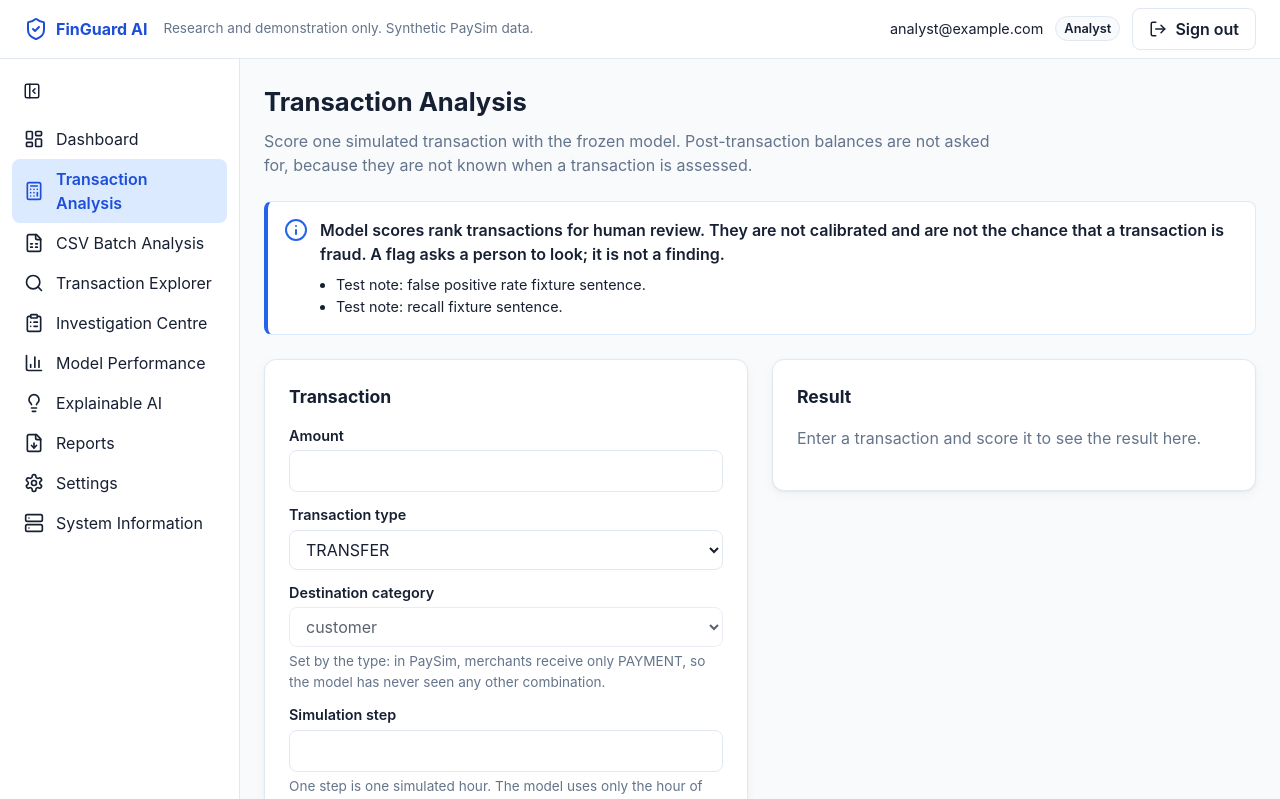
Test: transaction analysis › shows the API's message for a repeated identifier
Type "100" into the field labelled "Amount".
click(506, 471); type("100")  # box left=289, top=450, right=723, bottom=492
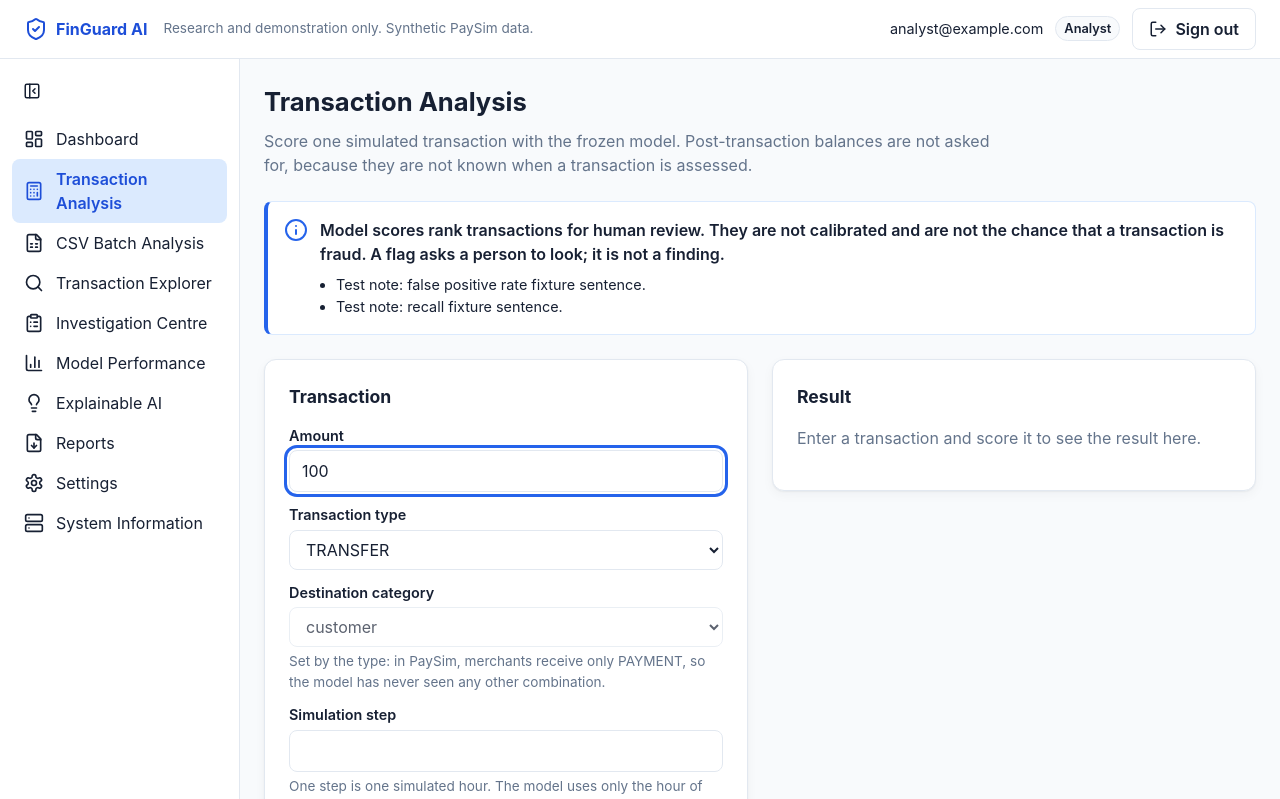
Select "TRANSFER" in the dropdown labelled "Transaction type" at (506, 550), box left=289, top=530, right=723, bottom=570
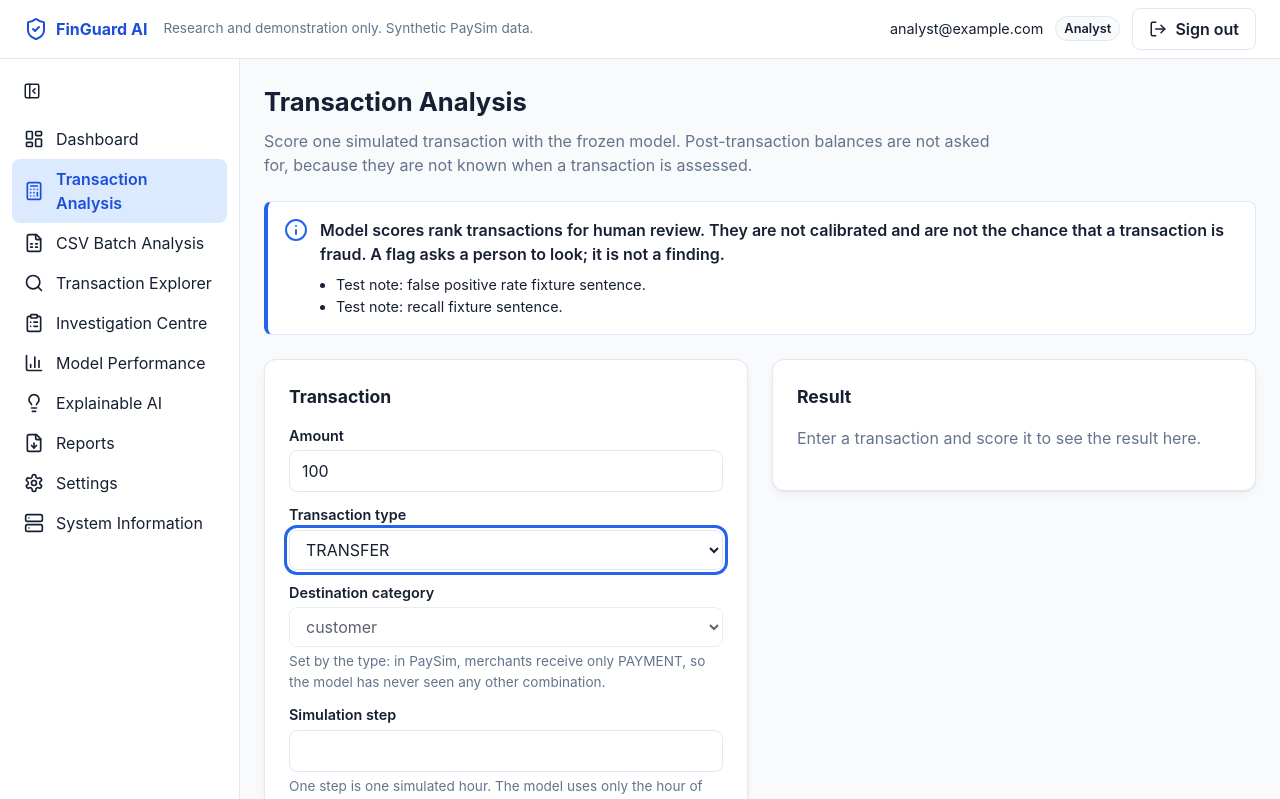
Type "5" into the field labelled "Simulation step".
click(506, 751); type("5")  # box left=289, top=730, right=723, bottom=772
(page scrolled)
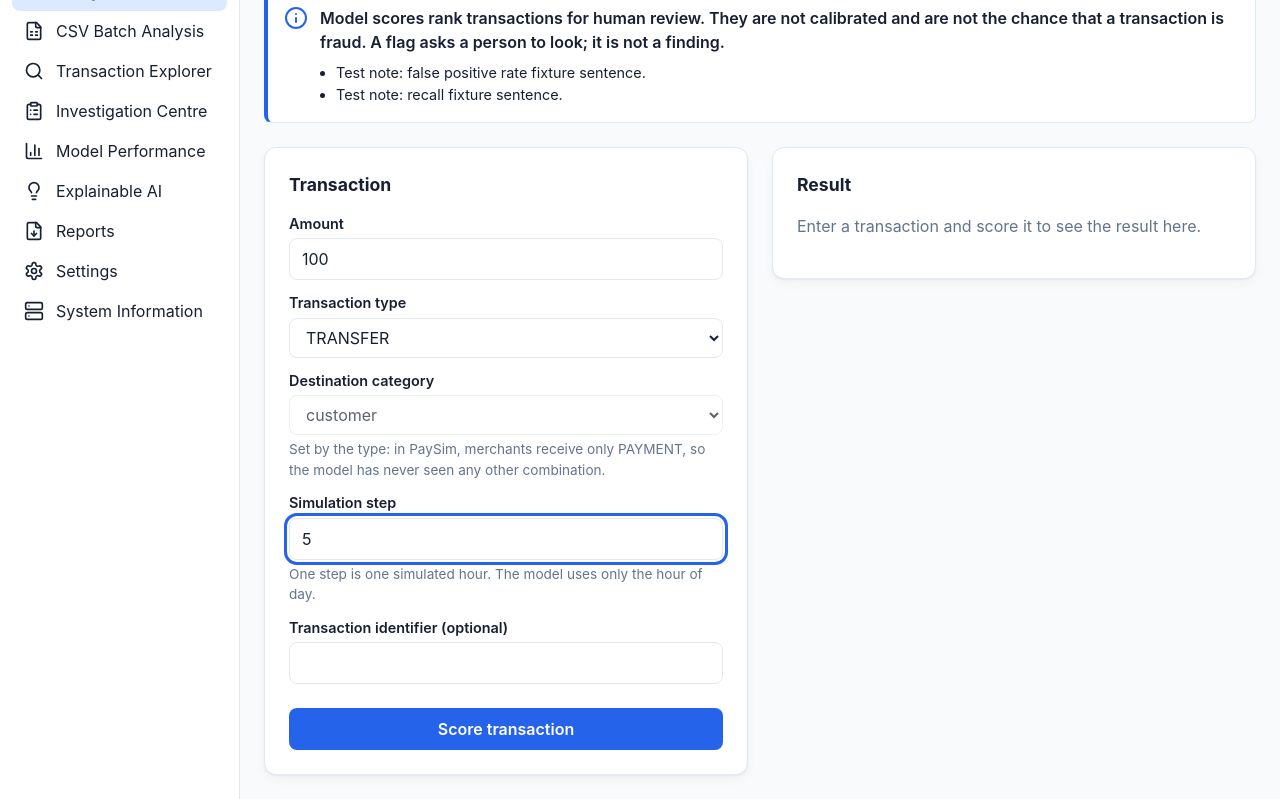
Click the button "Score transaction".
click(506, 729)  # box left=289, top=708, right=723, bottom=750
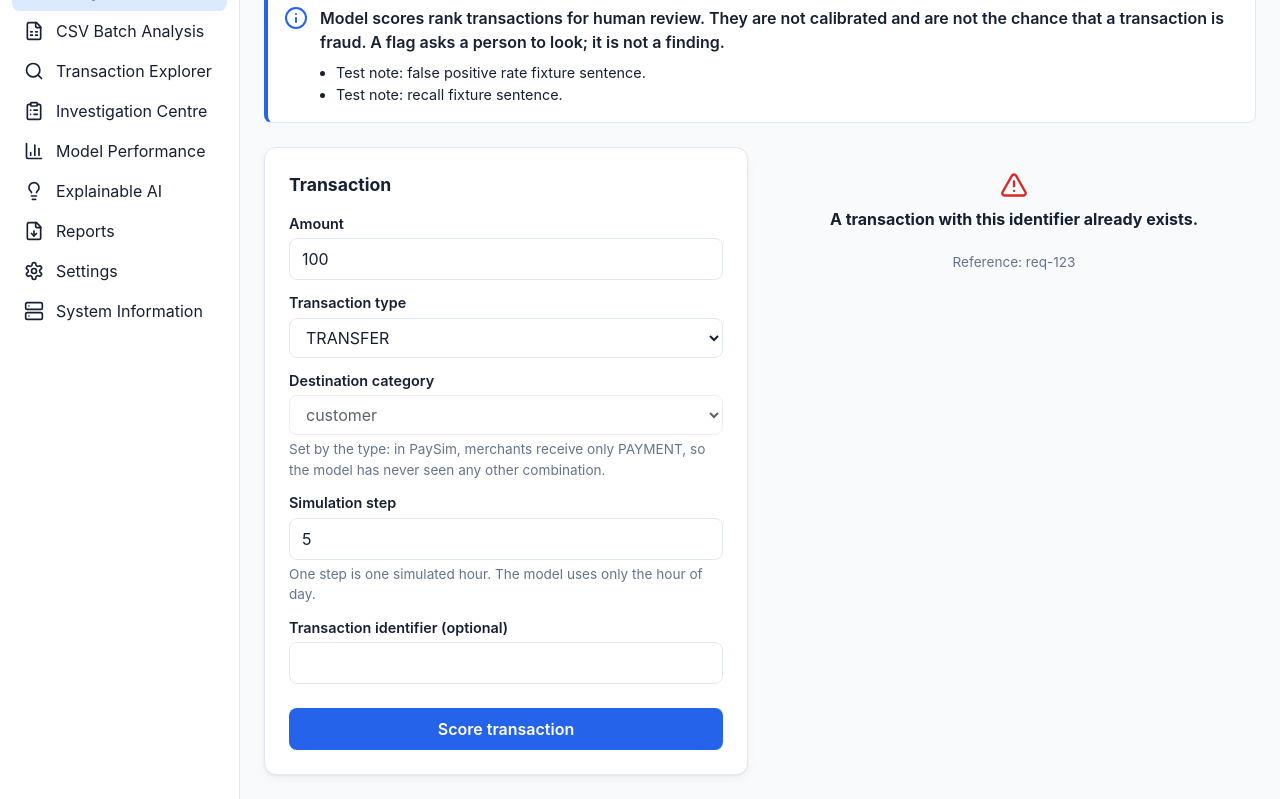
Result: the message shows "already exists" at left=830, top=209, right=1198, bottom=229
